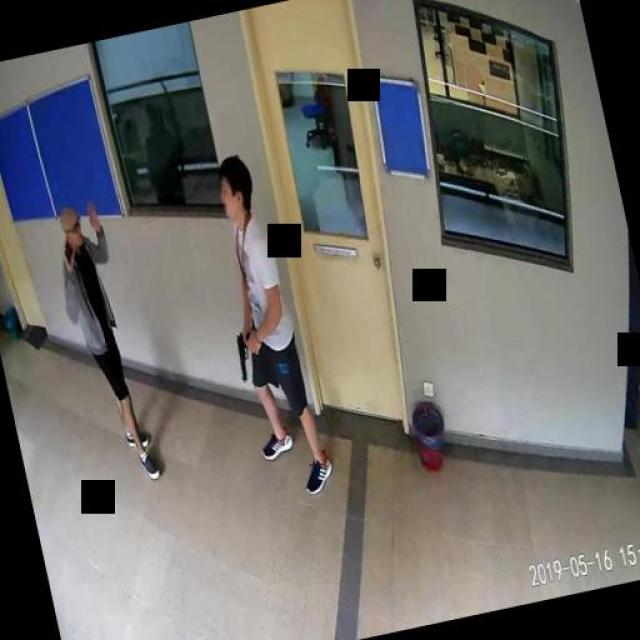gun: (230, 326, 259, 380)
